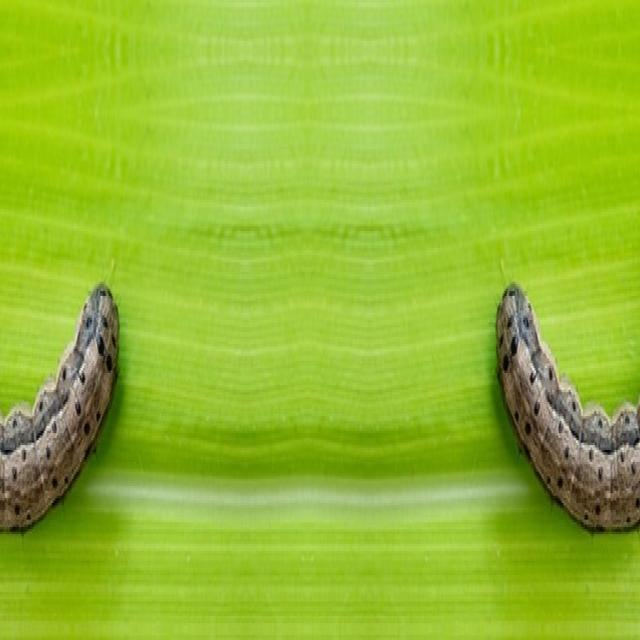armyworm: (494, 279, 639, 532), (0, 279, 119, 532)
